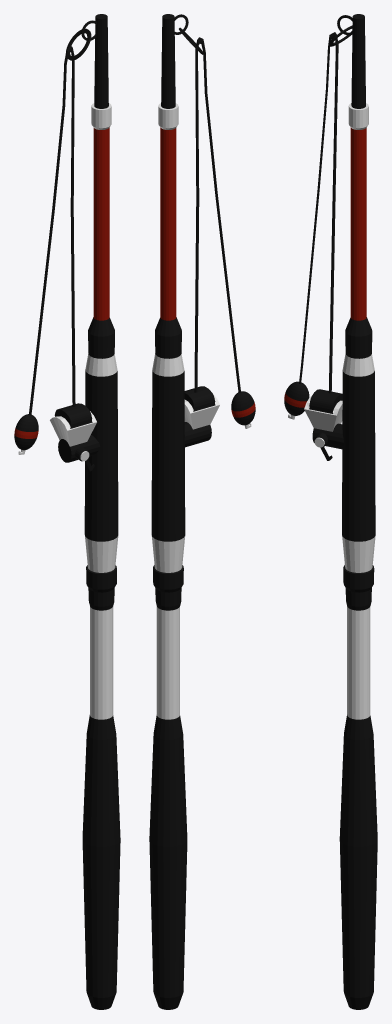
Rendered from fishingRod.fbx.
The picture shows the model from 3 angles, left to right: view 1: azimuth 30°, elevation 25°; view 2: azimuth 210°, elevation 25°; view 3: azimuth 330°, elevation 25°; orthographic projection.
Parts seen in each view (by area): view 1: Cylinder.003, Cylinder.002; view 2: Cylinder.003, Cylinder.002; view 3: Cylinder.003, Cylinder.002.
Boxes of the visible parts, x1,y1,x2,y2 form: Cylinder.003: (50, 14, 120, 1009); Cylinder.002: (14, 45, 75, 454); Cylinder.003: (149, 14, 219, 1009); Cylinder.002: (194, 37, 255, 428); Cylinder.003: (304, 14, 377, 1009); Cylinder.002: (284, 32, 338, 419).
Bounding box in the file's own units: 12.21 × 120 × 5.44.
